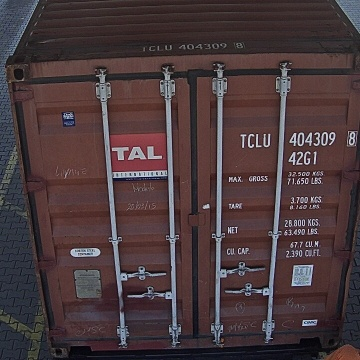serial_id: (240, 131, 356, 147)
